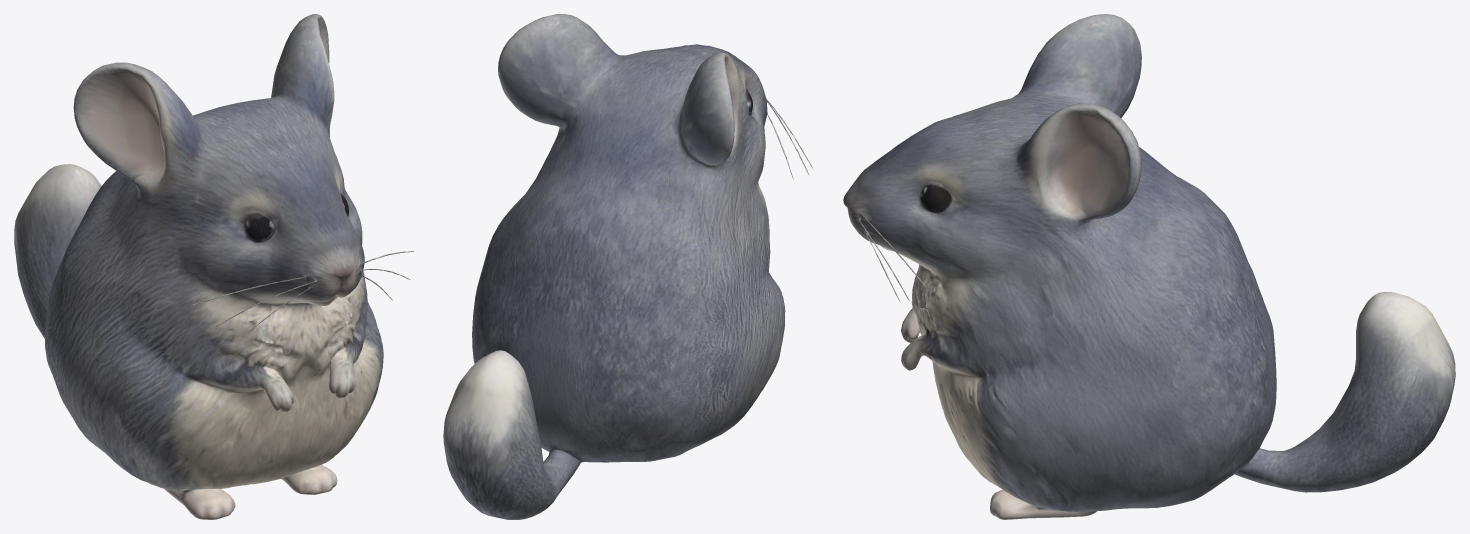
The model's file is chinchilla-gray.glb.
The picture shows the model from 3 angles, left to right: view 1: azimuth 30°, elevation 25°; view 2: azimuth 150°, elevation 25°; view 3: azimuth 270°, elevation 25°; orthographic projection. The views are drawn at different scales.
Parts seen in each view (by area): view 1: Mesh_0; view 2: Mesh_0; view 3: Mesh_0.
Part boxes in pixels (x1,y1,x2,y2): Mesh_0: (14,14,413,519); Mesh_0: (443,14,813,519); Mesh_0: (843,14,1455,519).
Size of the model in its own units: 0.981 by 1.47 by 1.9.
Materials: 1 (1 with a texture image).
